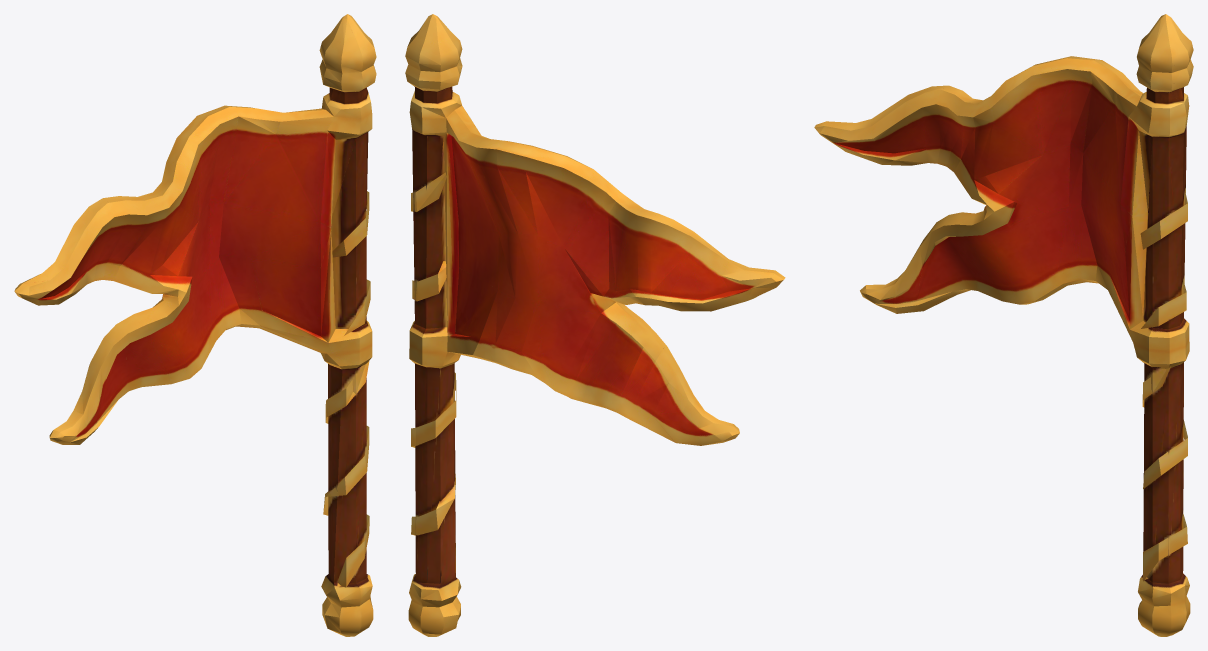
Rendered from flag.glb.
3 renders of one model, left to right at view 1: azimuth 30°, elevation 25°; view 2: azimuth 150°, elevation 25°; view 3: azimuth 330°, elevation 25°, orthographic.
Visible parts, largest first — view 1: mesh_000; view 2: mesh_000; view 3: mesh_000.
Boxes of the visible parts, x1,y1,x2,y2 form: mesh_000: [14, 14, 376, 636]; mesh_000: [405, 14, 785, 636]; mesh_000: [814, 14, 1193, 636].
Bounding box in the file's own units: 0.5889 × 0.9521 × 0.1333.
Materials: 1 (1 with a texture image).
